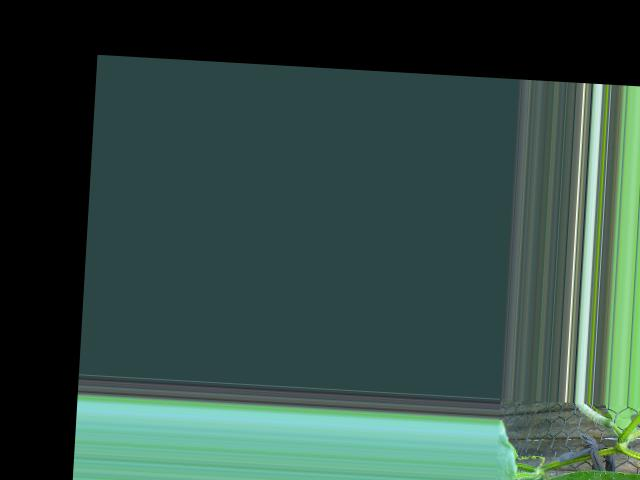cucumber: (525, 465, 640, 480)
